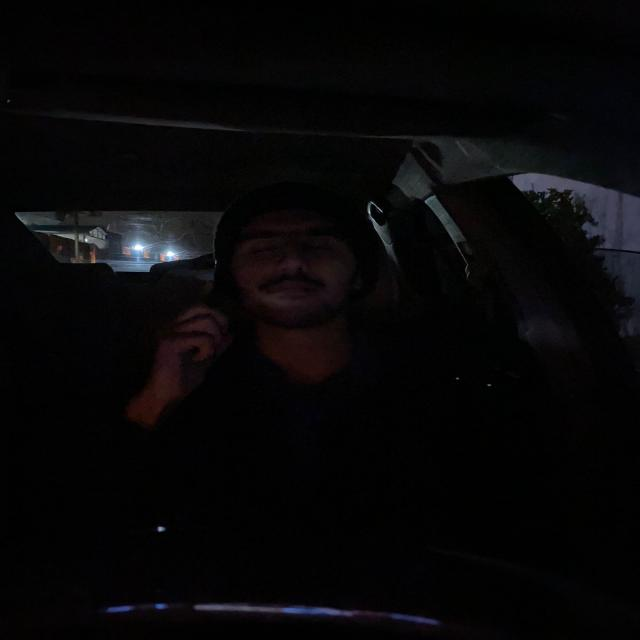mobile: (190, 280, 240, 377)
person: (224, 183, 358, 317)
